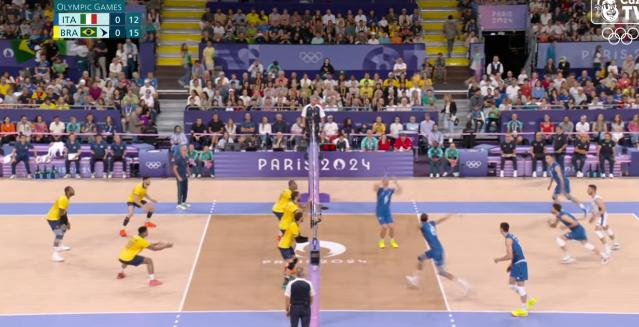Levantador: (278, 213, 306, 281), (374, 176, 394, 246)
Libero: (589, 185, 611, 258)
bola: (411, 74, 423, 89)
